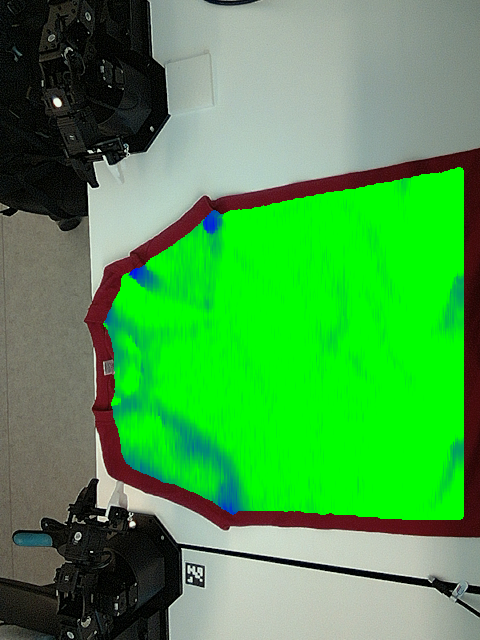V: (182, 269, 234, 316)
